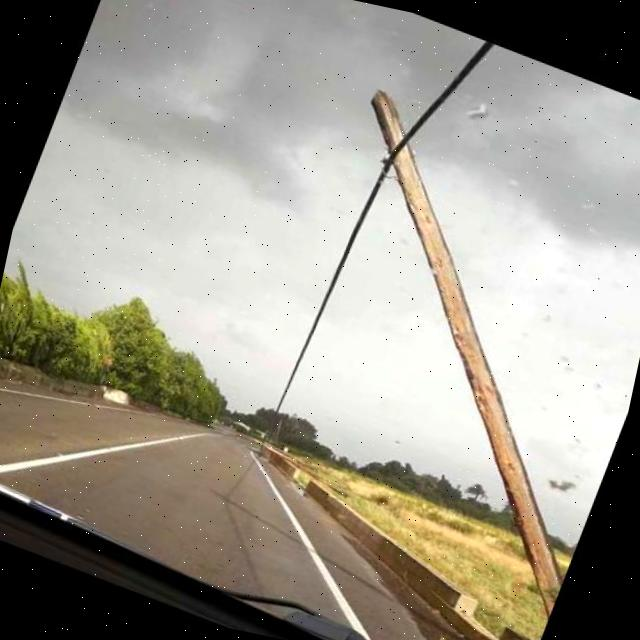Broken Pole: (369, 84, 563, 625)
